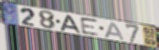2: (19, 7, 39, 29)
7: (125, 22, 141, 44)
8: (38, 10, 57, 30)
A: (60, 14, 82, 35), (104, 21, 126, 42)
E: (79, 17, 101, 37)
